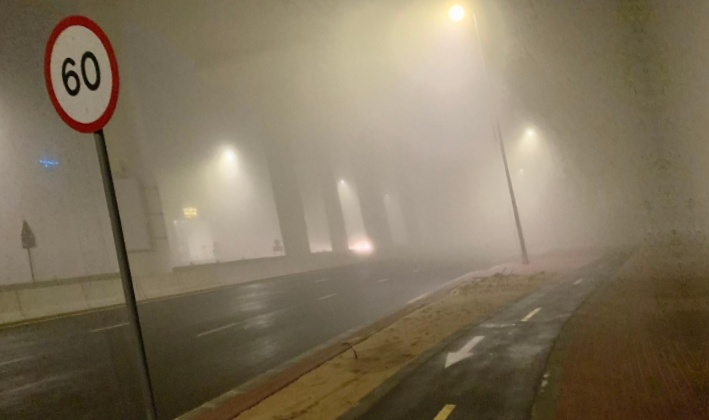Speed limit: (34, 15, 124, 144)
